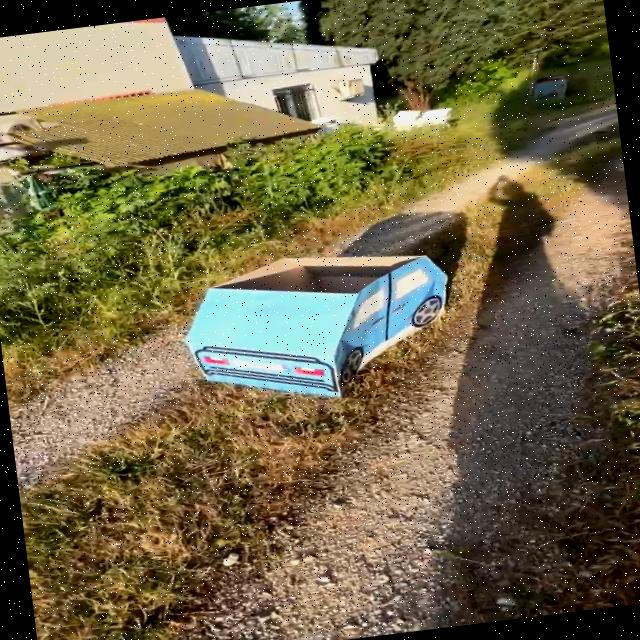blue_car: (138, 189, 539, 438)
